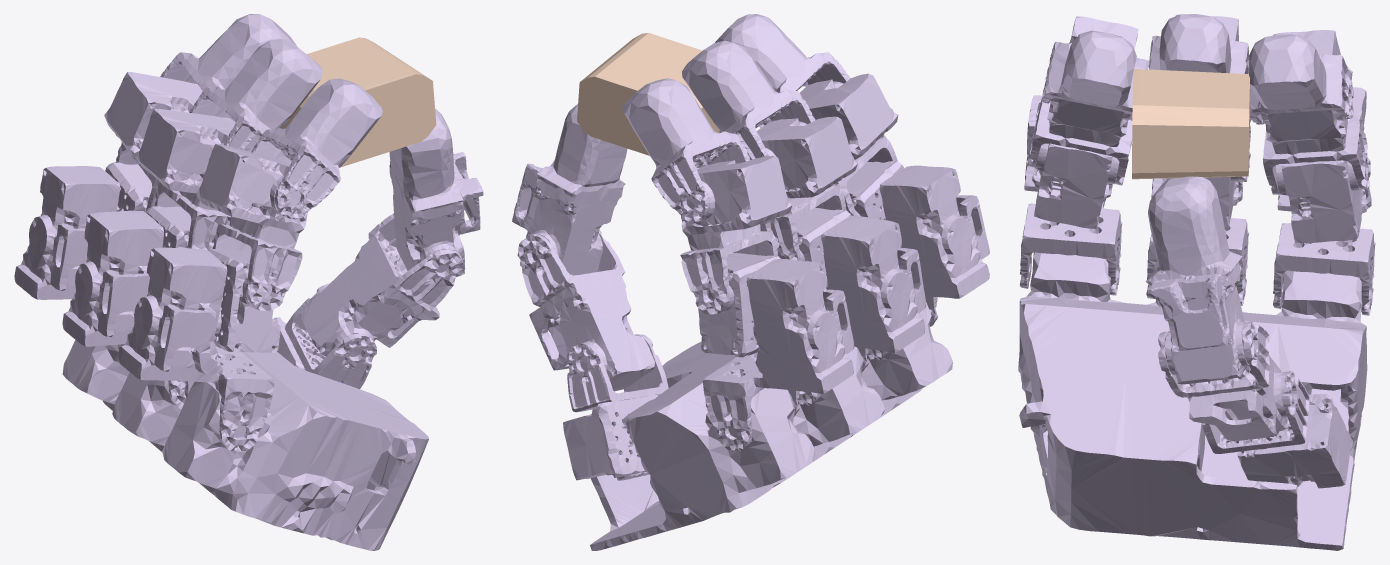
Rendered from 559675d7a4e359-closed.glb.
3 views of the same model, side by side, from view 1: azimuth 30°, elevation 25°; view 2: azimuth 150°, elevation 25°; view 3: azimuth 270°, elevation 25° (orthographic). The views are drawn at different scales.
Parts seen in each view (by area): view 1: LEAP_hand, world; view 2: LEAP_hand, world; view 3: LEAP_hand, world.
Boxes of the visible parts, x1,y1,x2,y2 form: LEAP_hand: (14, 14, 483, 550); world: (281, 37, 436, 167); LEAP_hand: (512, 14, 989, 550); world: (577, 33, 719, 155); LEAP_hand: (1018, 14, 1375, 550); world: (1132, 69, 1250, 179).
Size of the model in its own units: 0.1755 by 0.1979 by 0.1275.
